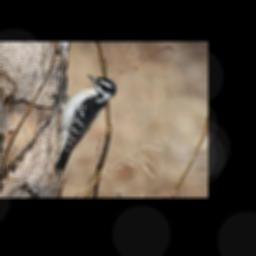Woodpecker: (47, 74, 118, 177)
